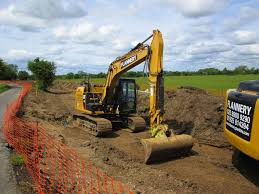excavator: (72, 27, 194, 165)
